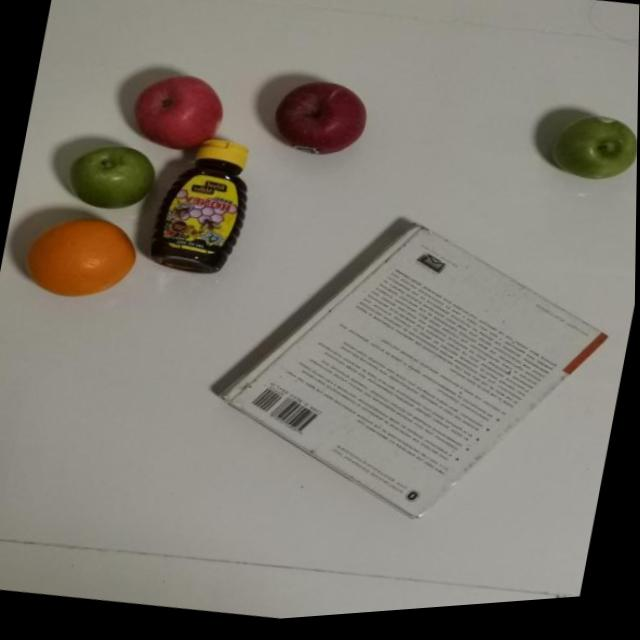Apple: (116, 55, 233, 159), (262, 70, 379, 174), (51, 123, 168, 226), (541, 104, 638, 206)
Book: (194, 185, 637, 569)
Orange: (6, 204, 141, 312)
